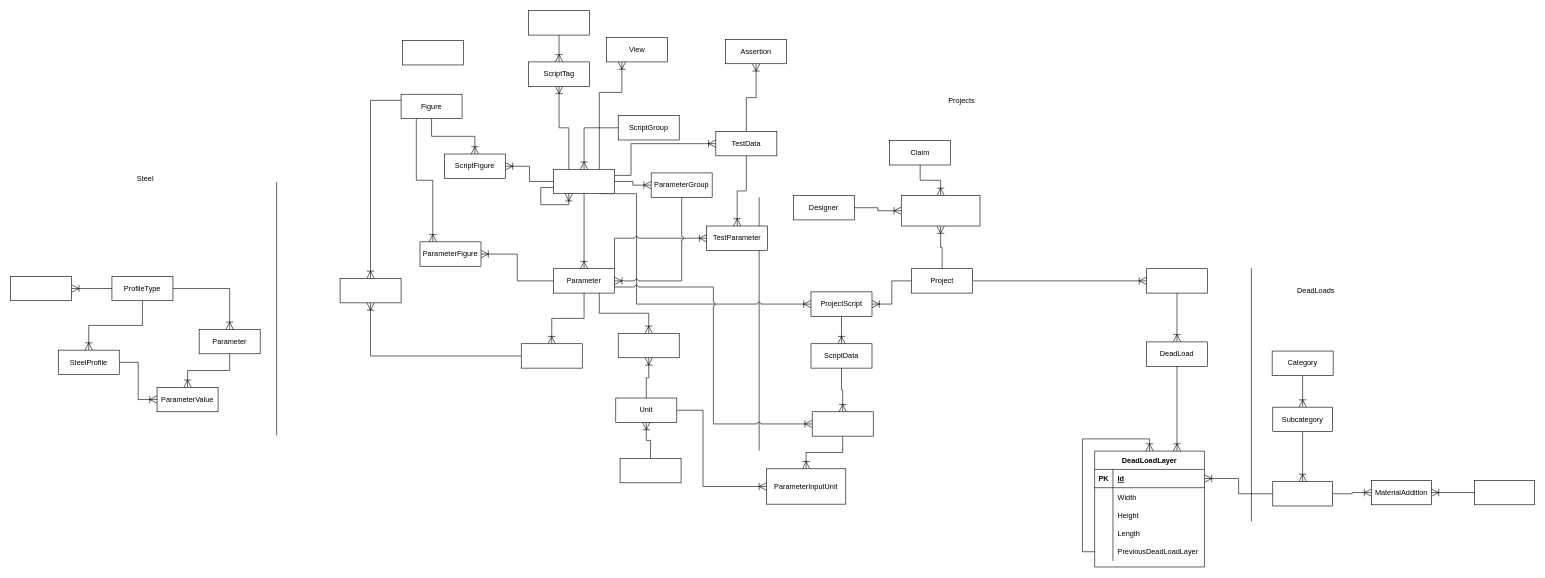
Image size: 1545x578. Some labels were removed from this diagram. Here are the shapes that lost their labels. From the top down, the box of each, then its label:
(528, 10, 590, 35): Tag
(402, 40, 463, 65): FigureSettings
(553, 169, 615, 194): Script
(901, 195, 980, 226): ProjectDesignerClaim
(10, 276, 72, 301): SectionPoint
(339, 278, 401, 303): ValueOptionFigure
(1146, 268, 1207, 293): ProjectDeadLoad
(521, 343, 582, 368): ValueOption
(618, 333, 679, 358): ParameterUnit
(812, 411, 873, 436): ParameterInput
(619, 458, 681, 483): UnitGroup
(1272, 481, 1333, 506): Material
(1474, 480, 1534, 505): Addition
